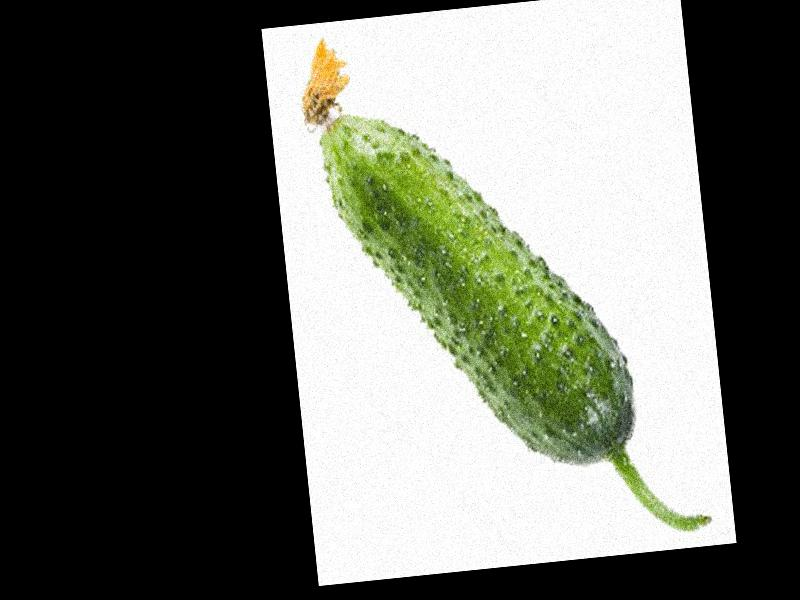Cucumber: (294, 2, 709, 565)
